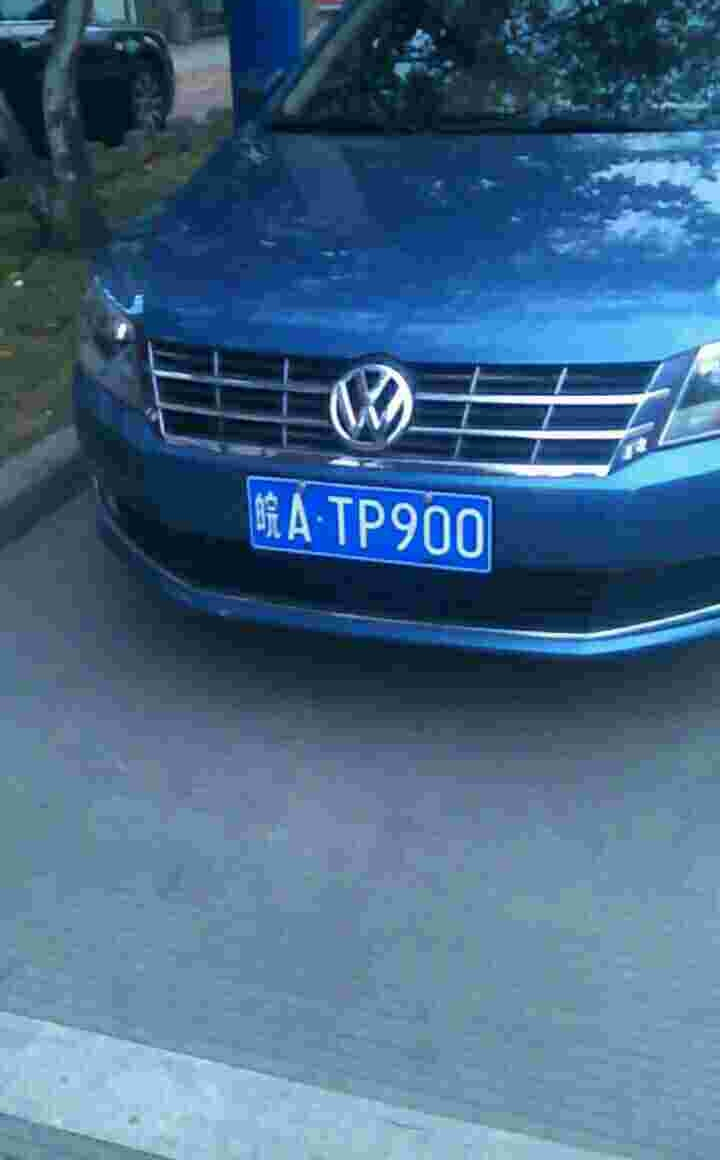license_plate: (239, 469, 512, 583)
